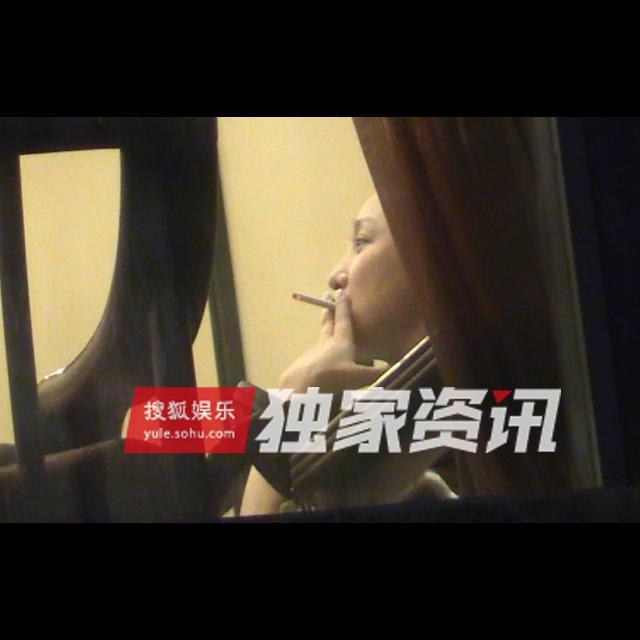rokok: (285, 286, 341, 314)
